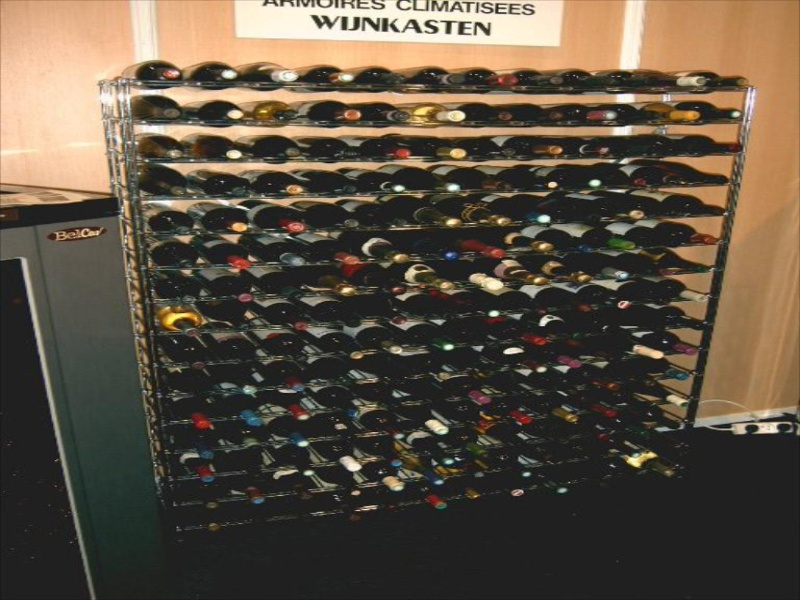wine: (122, 56, 766, 532)
